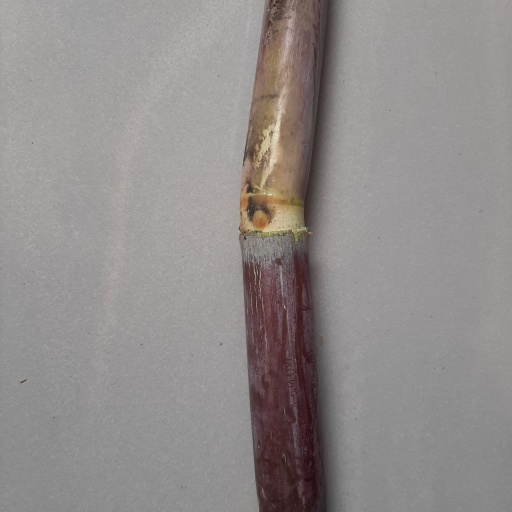Bud: (250, 206, 272, 230)
